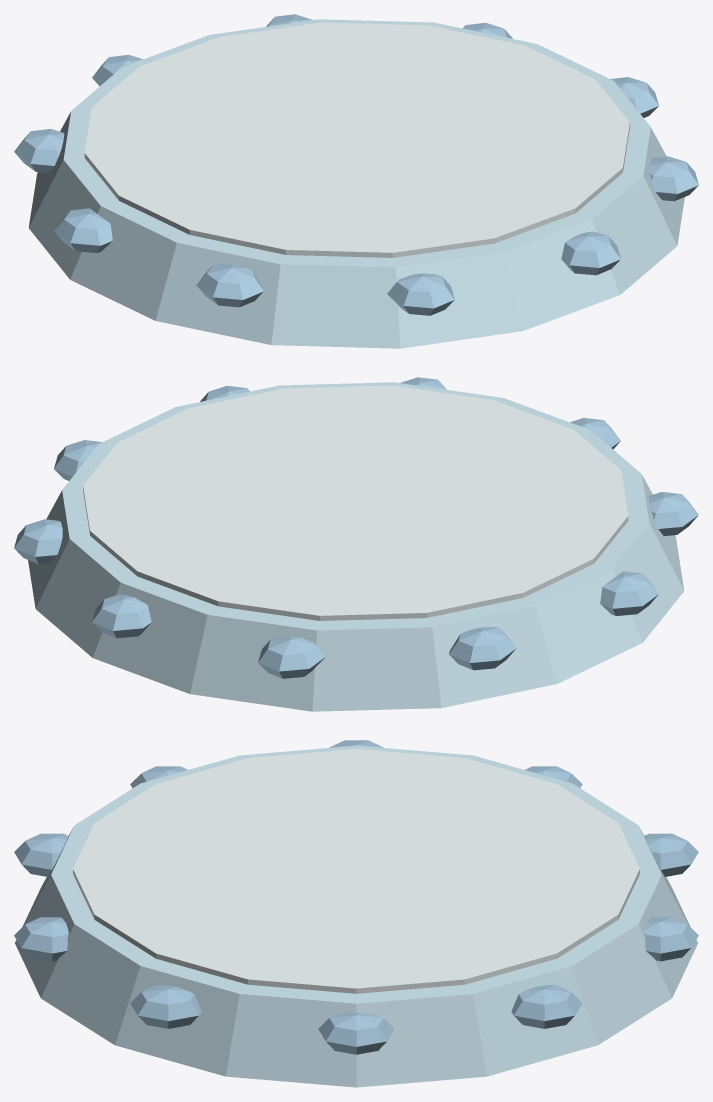
The model's file is tempano_jugador.glb.
3 renders of one model, top to bottom at view 1: azimuth 30°, elevation 25°; view 2: azimuth 150°, elevation 25°; view 3: azimuth 270°, elevation 25°, orthographic. The views are drawn at different scales.
Visible parts, largest first — view 1: tempano_jugador; view 2: tempano_jugador; view 3: tempano_jugador.
Part boxes in pixels (left/top/right/bottom): tempano_jugador: left=14, top=14, right=698, bottom=348; tempano_jugador: left=14, top=377, right=698, bottom=711; tempano_jugador: left=14, top=740, right=698, bottom=1087.
Size of the model in its own units: 4.86 by 0.565 by 4.71.
